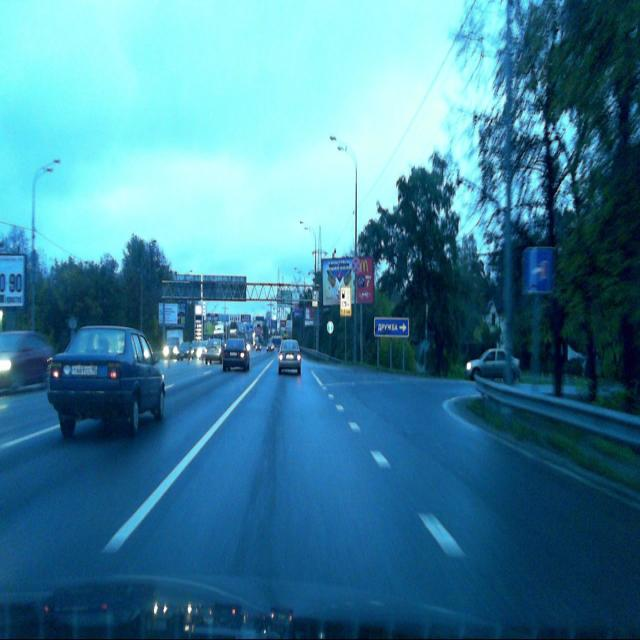road sign: (523, 246, 553, 293)
